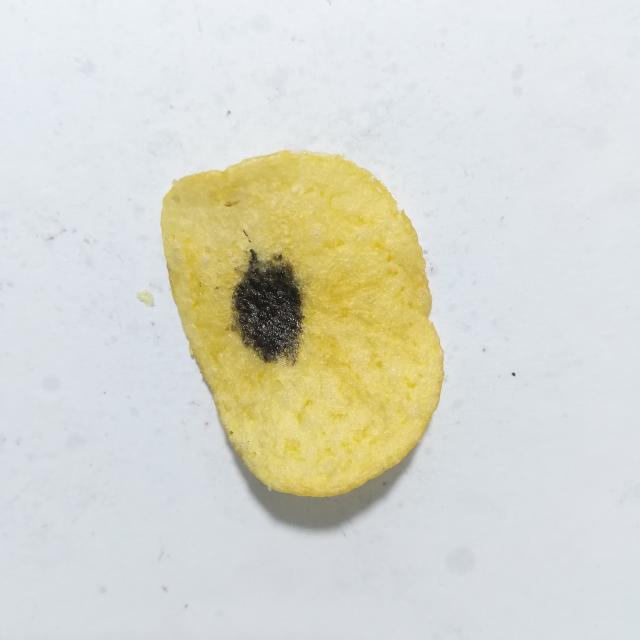chip: (161, 151, 444, 496)
damaged: (232, 249, 303, 364), (243, 230, 251, 242)
